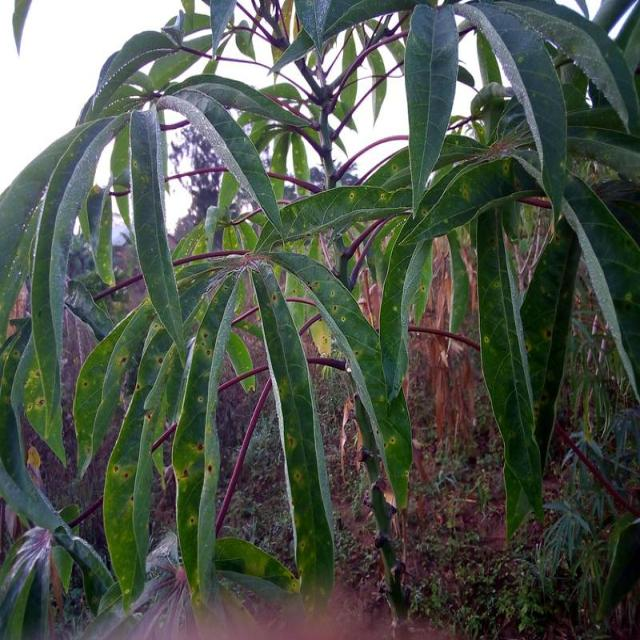cassava leaf: (1, 1, 638, 634), (404, 2, 458, 218)
